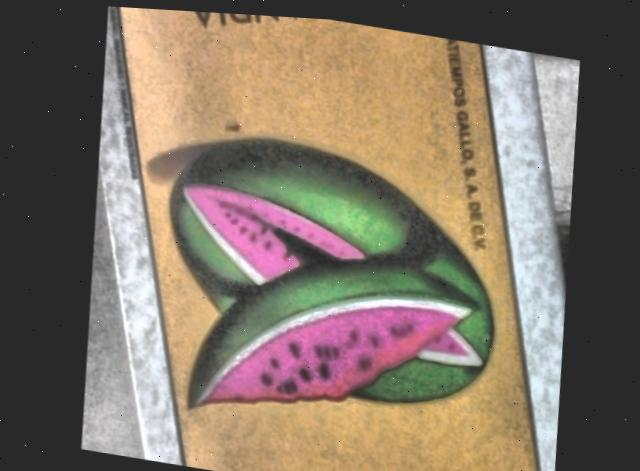La Sandia: (123, 6, 532, 471)
